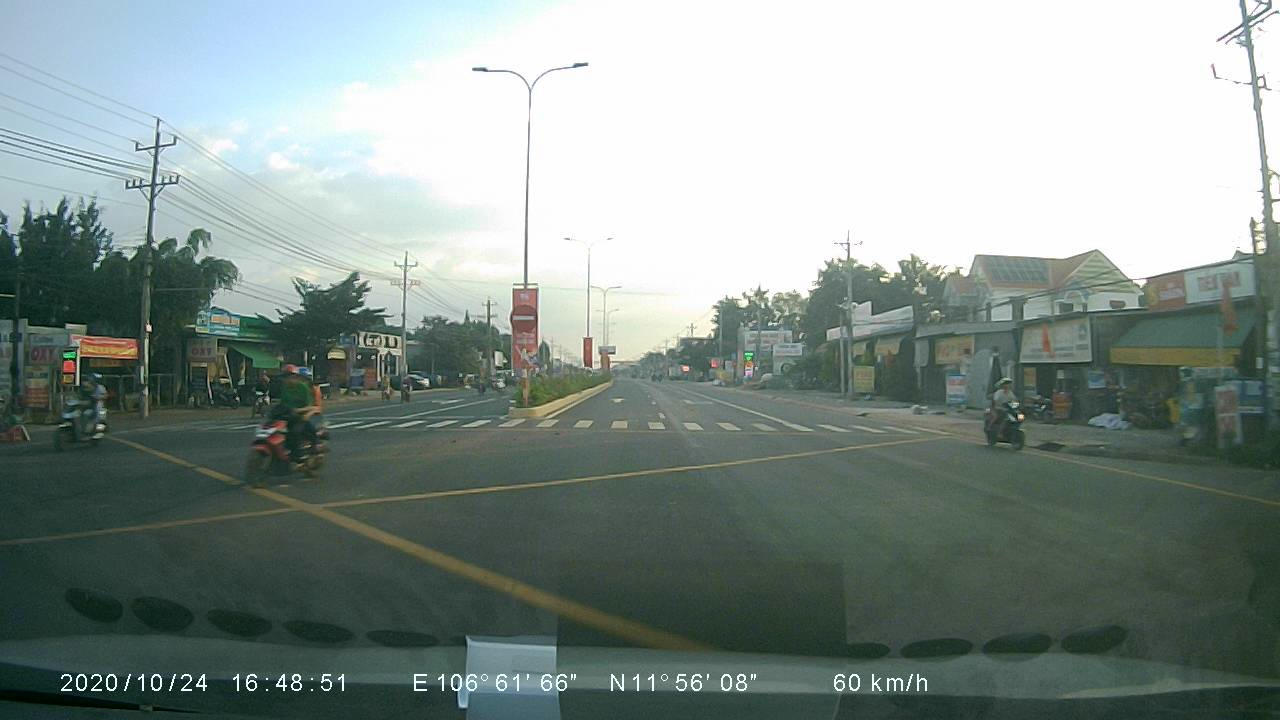Cam di nguoc chieu: (508, 300, 537, 331)
